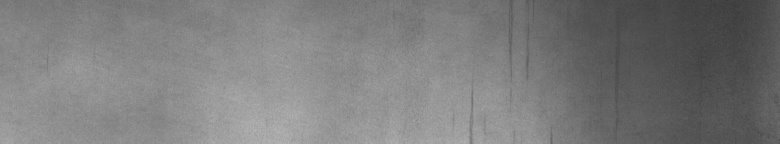ka: (469, 4, 529, 136)
